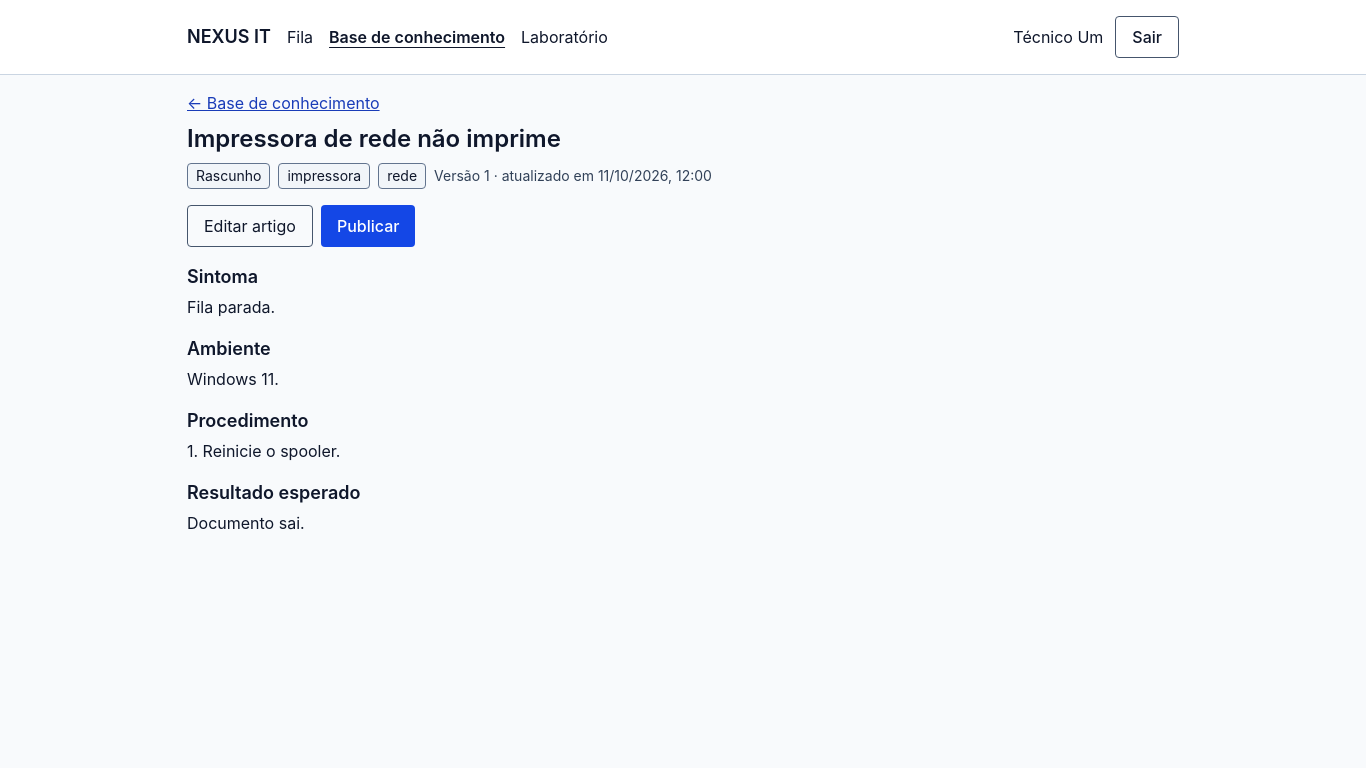
Test: gestão da base: publicar e despublicar (FR-06, FR-15) › publicar de novo (422) mostra o motivo da API
Click the button "Publicar" at (368, 226), box [321,205,415,247]
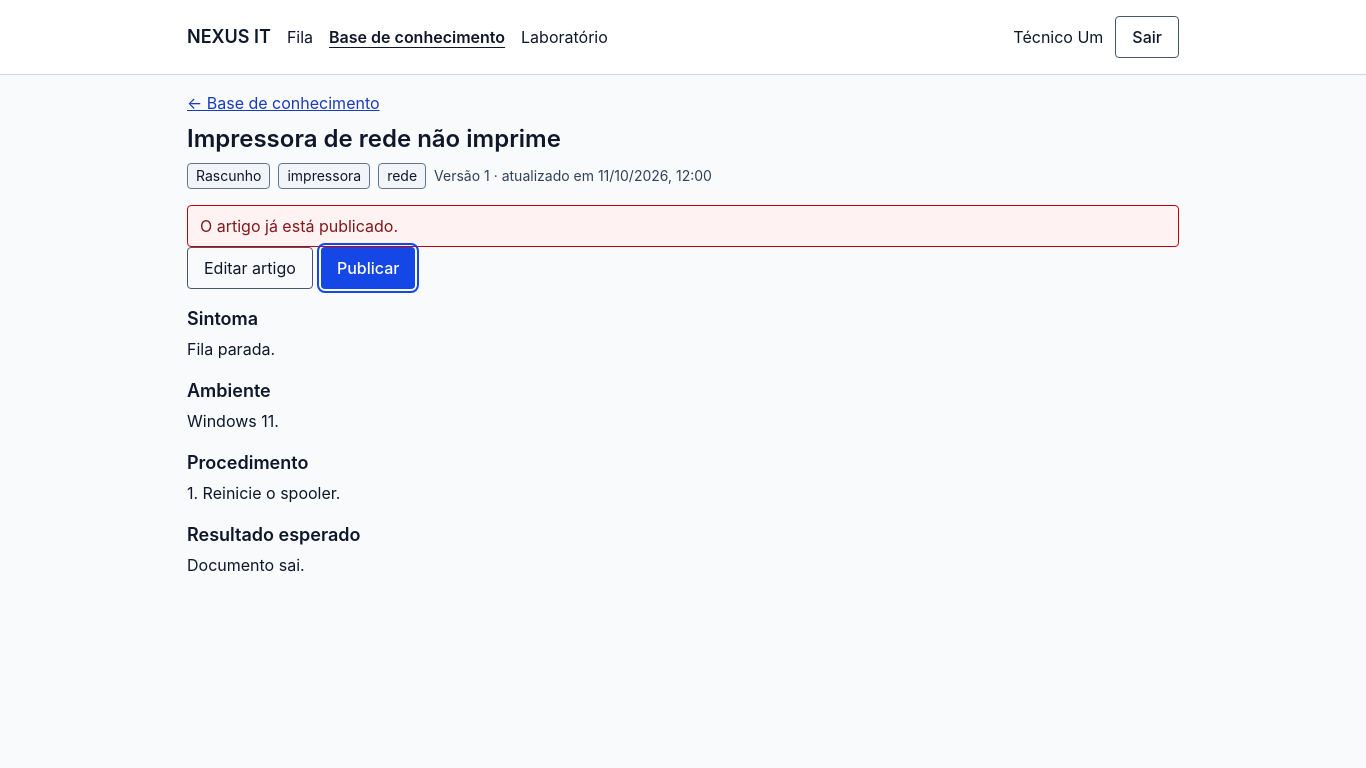
Expected: the message shows "já está publicado", [200,216,398,236]
